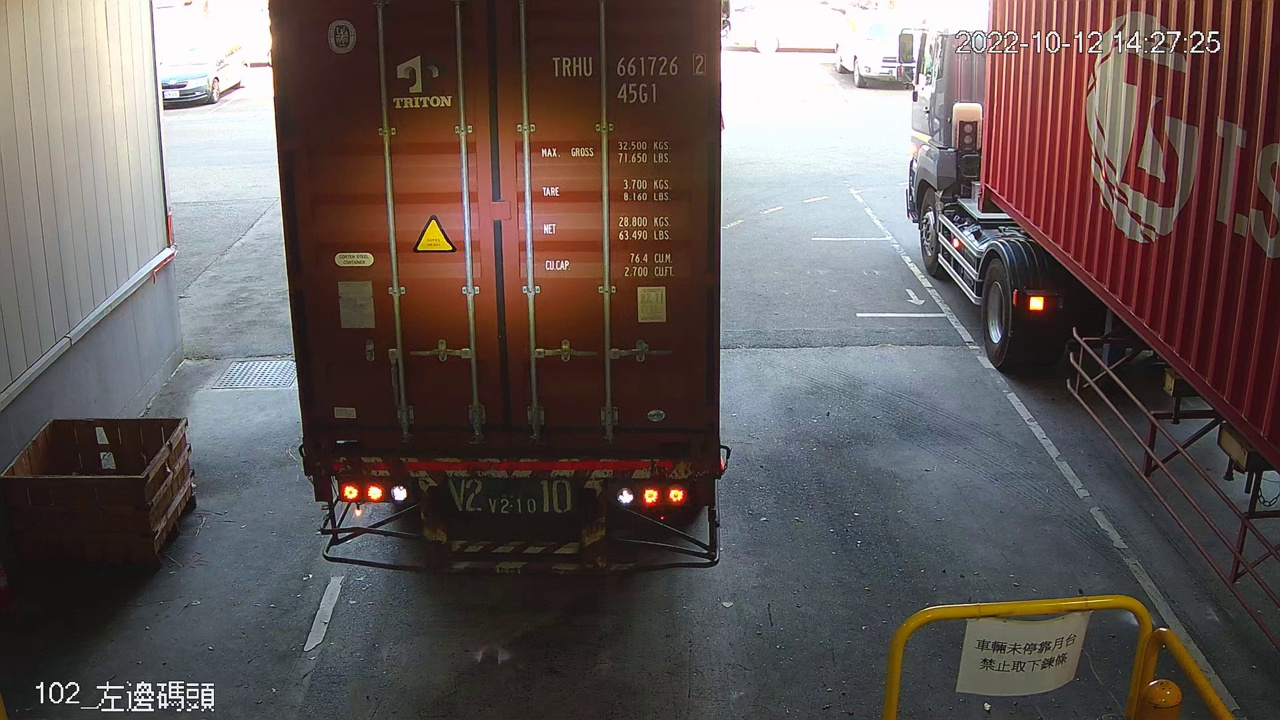container: (545, 46, 711, 107)
